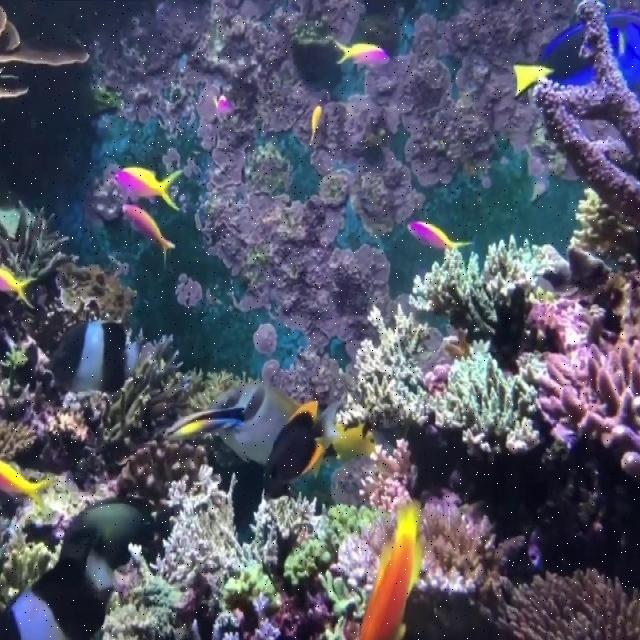fish: (0, 543, 117, 639), (163, 384, 302, 464), (357, 501, 425, 639), (43, 320, 143, 393), (268, 397, 343, 482), (120, 204, 177, 268), (115, 168, 186, 210), (327, 37, 392, 70), (408, 221, 473, 249)
reefs: (336, 240, 639, 475), (531, 3, 639, 224), (507, 572, 639, 639)
